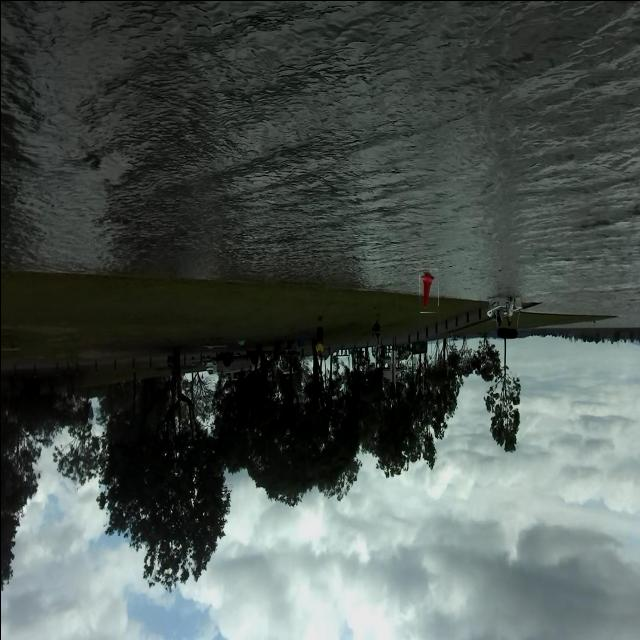Red_Buoy: (416, 262, 437, 312)
